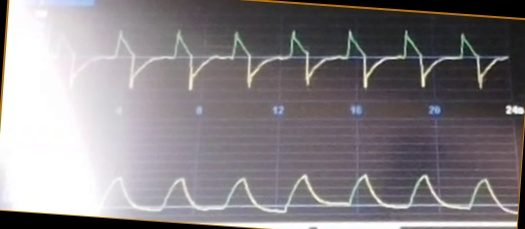Normal Flow: (52, 22, 507, 102)
Normal Volume: (93, 157, 517, 215)
